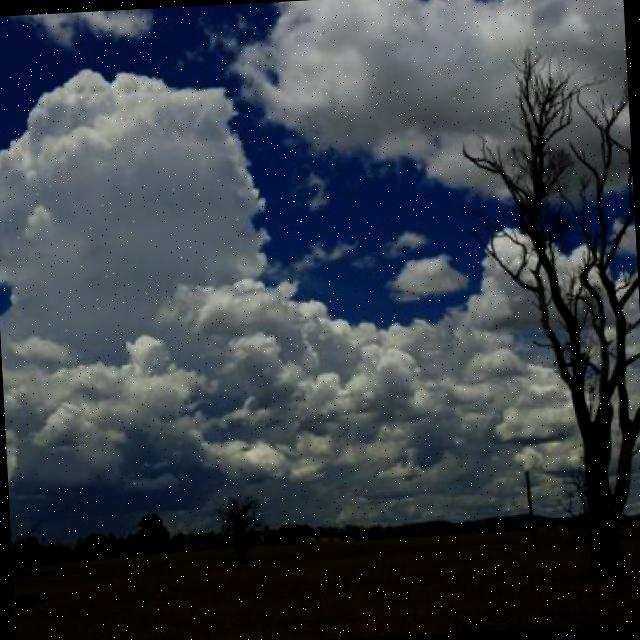Cu: (1, 19, 456, 445)
